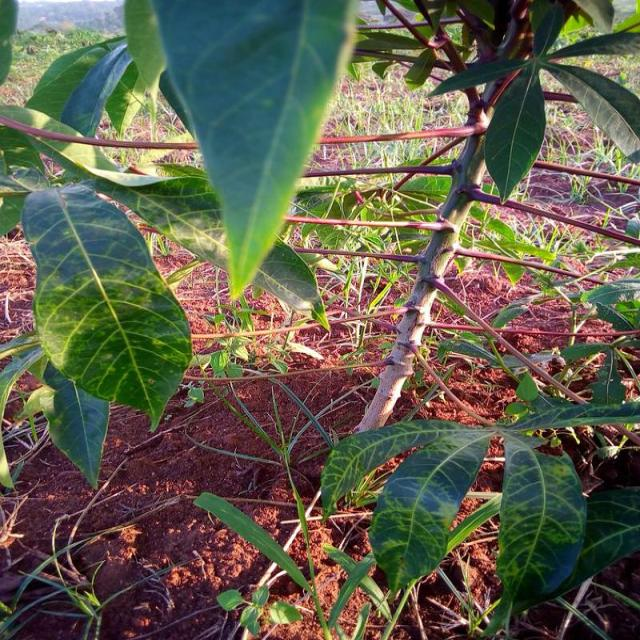cassava leaf: (151, 0, 360, 303), (22, 180, 194, 432), (368, 422, 495, 596), (484, 58, 547, 204)
